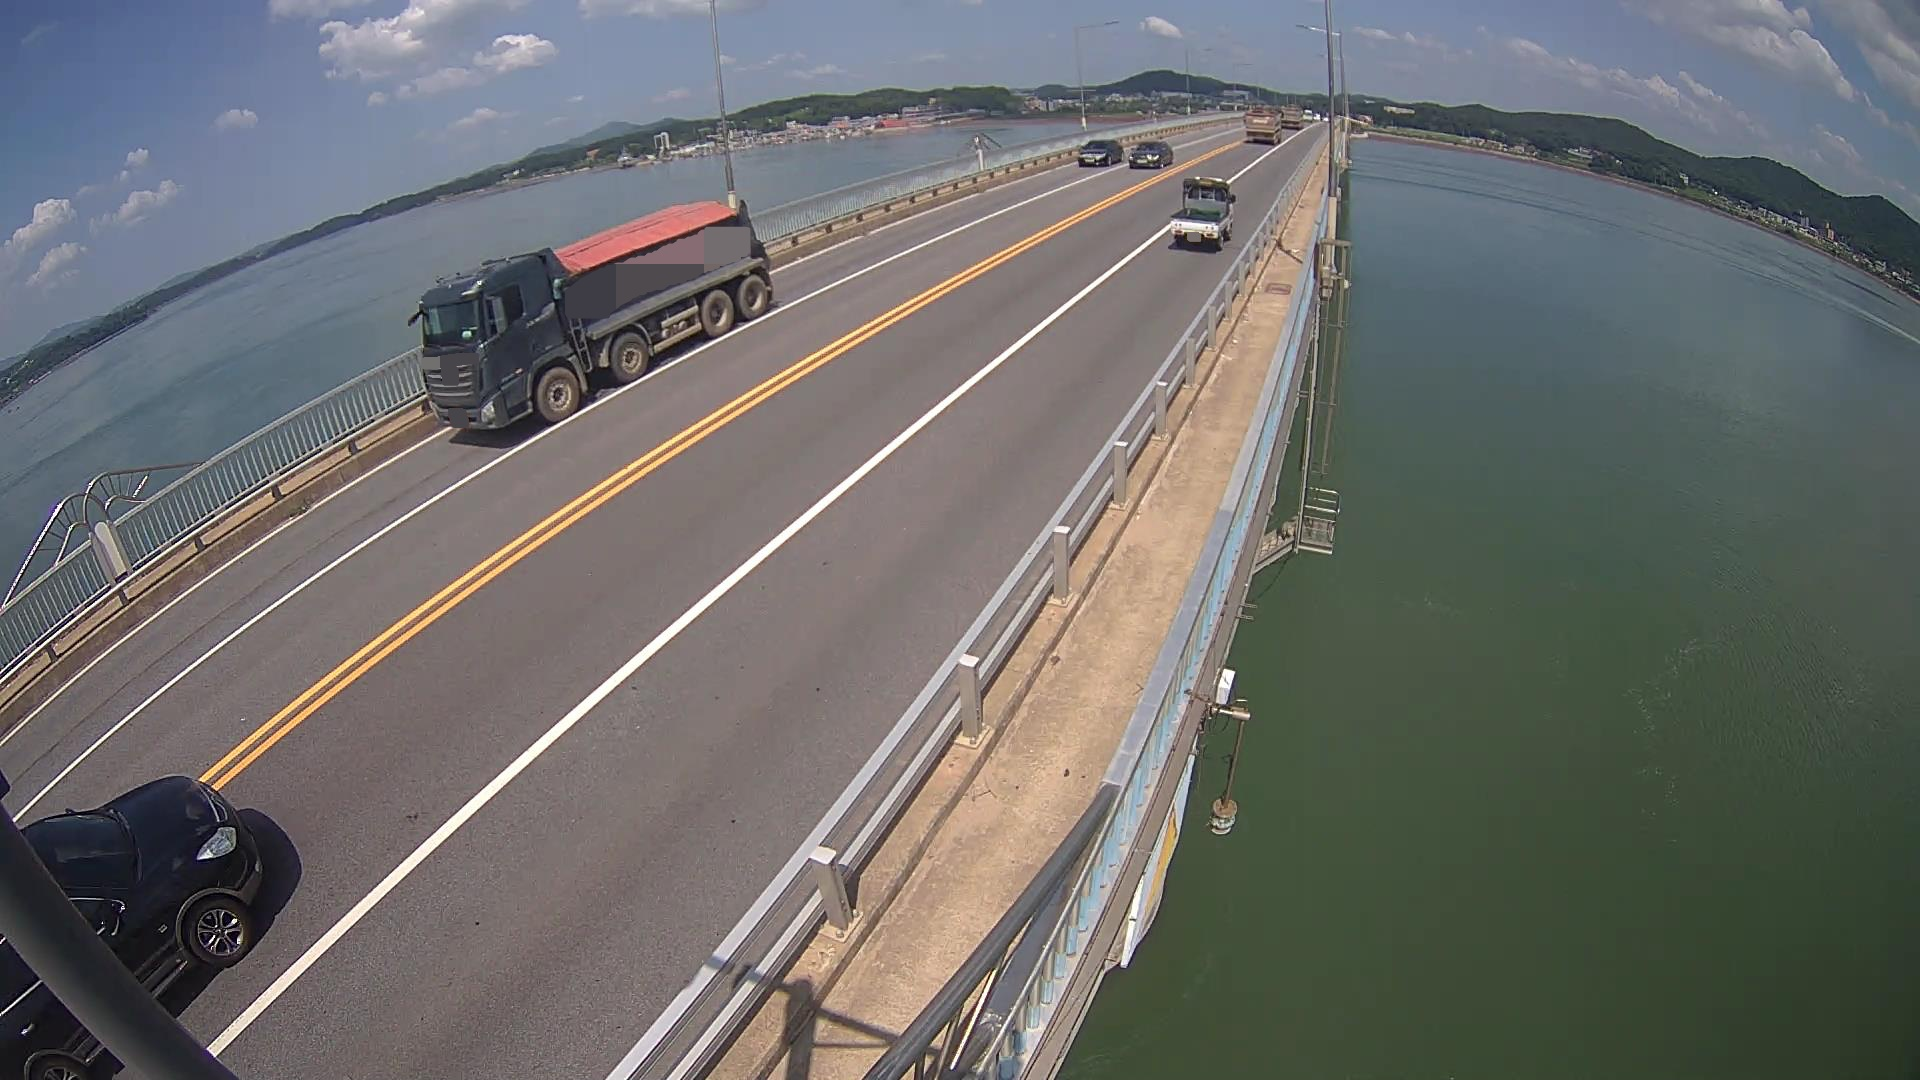정상차량: (408, 200, 773, 429)
